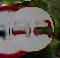No overtake: (5, 4, 59, 52)
